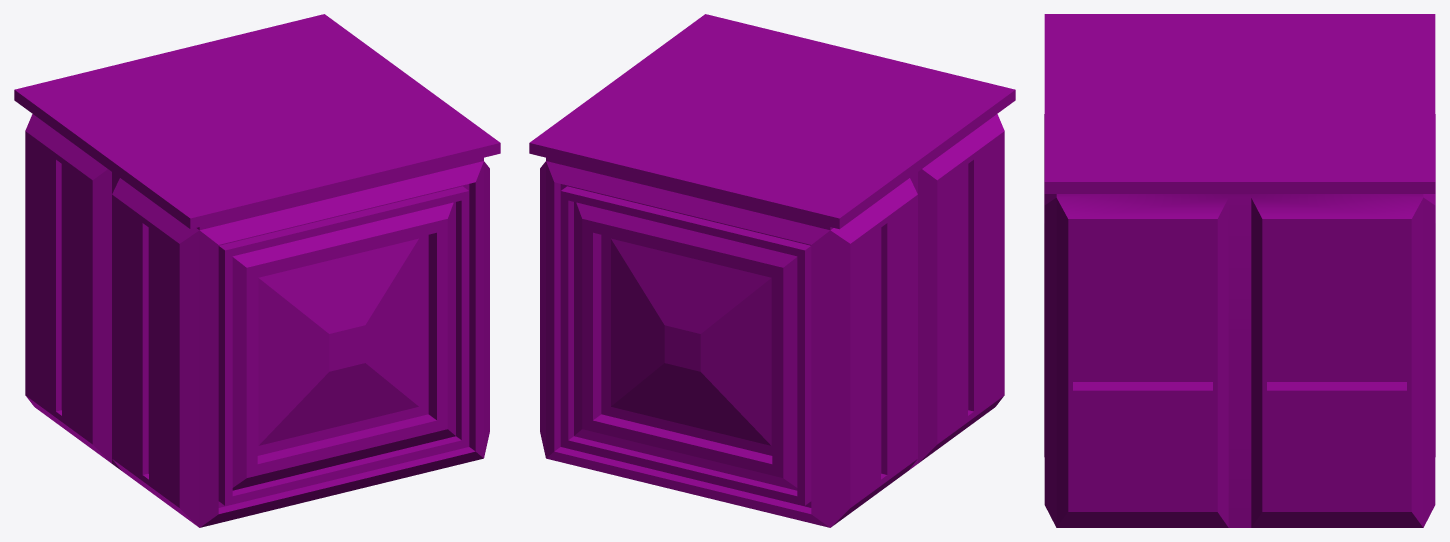
Rendered from Block Path.fbx.
3 renders of one model, left to right at view 1: azimuth 30°, elevation 25°; view 2: azimuth 150°, elevation 25°; view 3: azimuth 270°, elevation 25°, orthographic. The views are drawn at different scales.
Visible parts, largest first — view 1: polySurface6; view 2: polySurface6; view 3: polySurface6.
Boxes of the visible parts, box(x1,y1,x2,y2) form: polySurface6: box(14, 14, 500, 527); polySurface6: box(529, 14, 1015, 527); polySurface6: box(1044, 14, 1435, 527).
Bounding box in the file's own units: 2.42 × 2.36 × 2.38.
